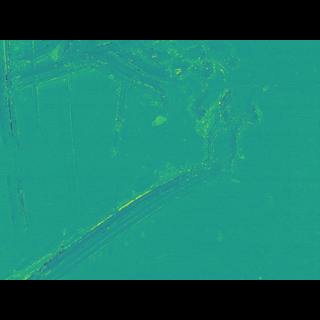Loch: (0, 102, 274, 249), (0, 68, 262, 125), (0, 70, 34, 218)
